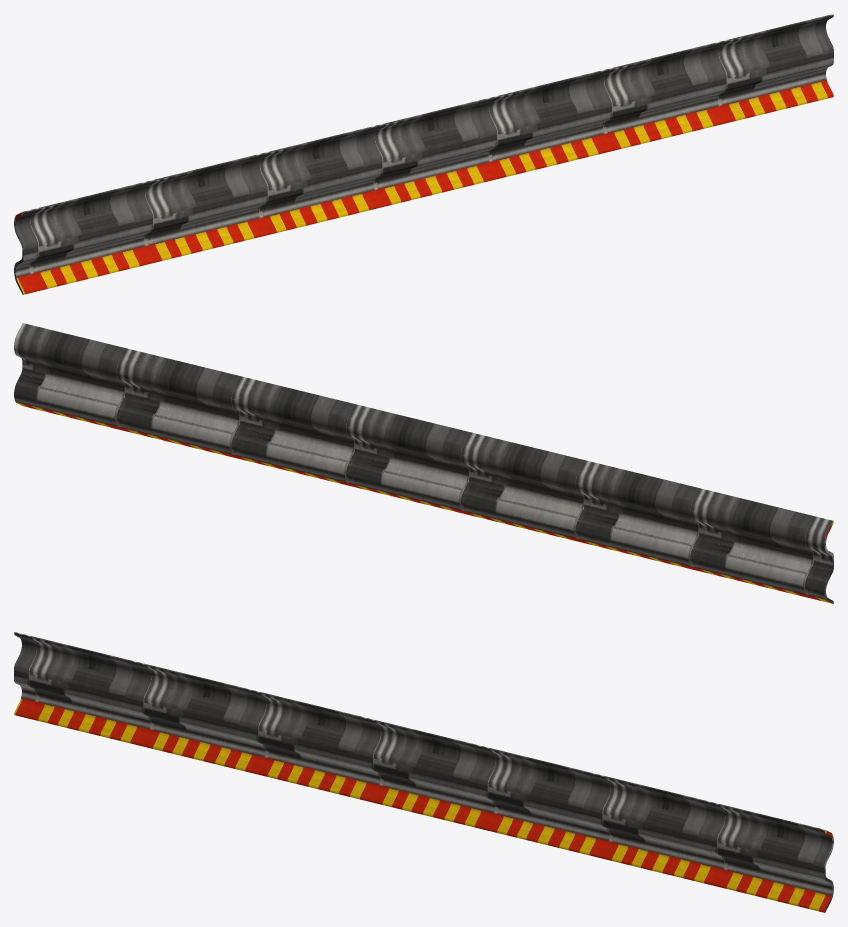
File: Rail 1.FBX
The picture shows the model from 3 angles, top to bottom: view 1: azimuth 30°, elevation 25°; view 2: azimuth 150°, elevation 25°; view 3: azimuth 330°, elevation 25°; orthographic projection.
Visible parts, largest first — view 1: guardrail_small_nocol; view 2: guardrail_small_nocol; view 3: guardrail_small_nocol.
Boxes of the visible parts, x1,y1,x2,y2 form: guardrail_small_nocol: (14,14,833,294); guardrail_small_nocol: (14,323,833,603); guardrail_small_nocol: (14,632,833,912).
Bounding box in the file's own units: 589 × 57.73 × 11.92.
